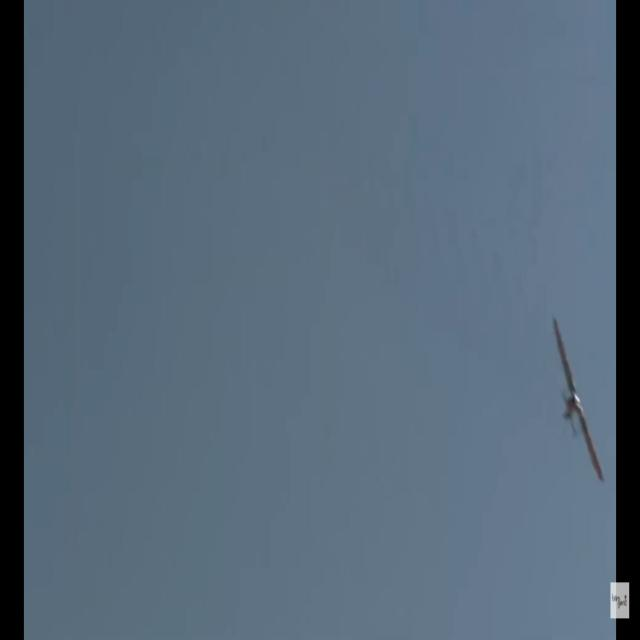iha: (552, 318, 606, 484)
